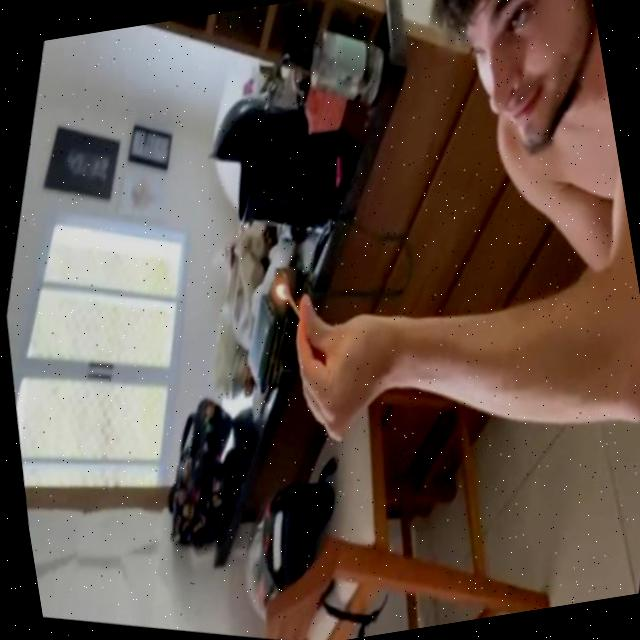fire: (263, 275, 297, 309)
